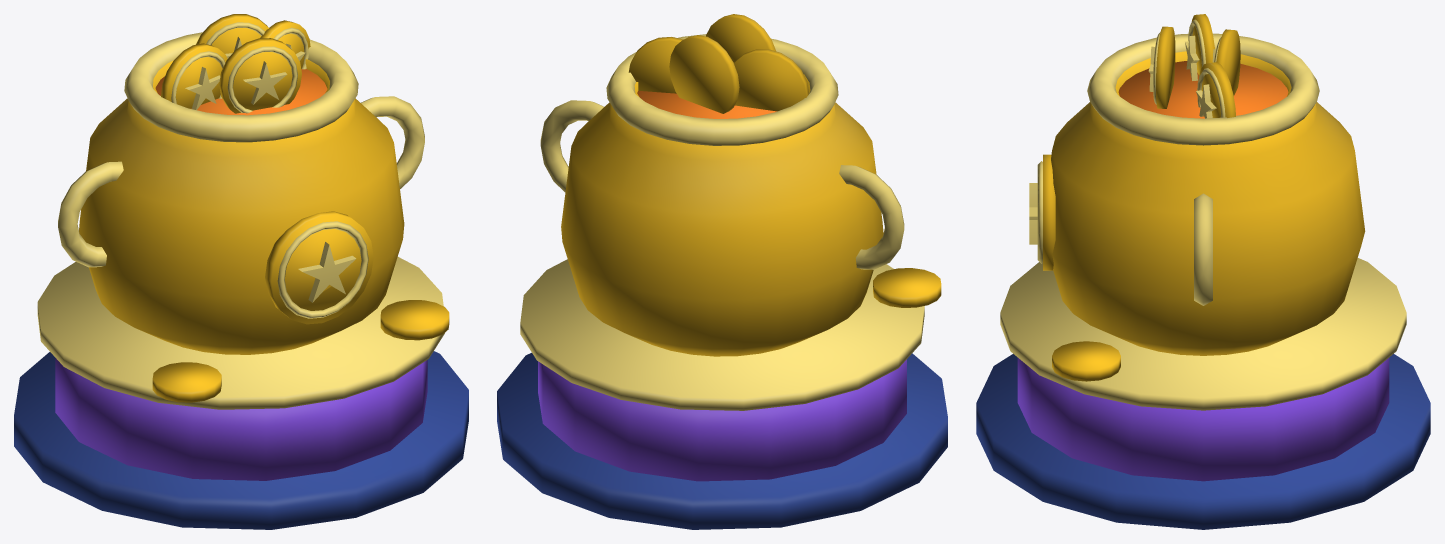
The model's file is CollectCoinJar.fbx.
3 views of the same model, side by side, from view 1: azimuth 30°, elevation 25°; view 2: azimuth 150°, elevation 25°; view 3: azimuth 270°, elevation 25° (orthographic).
Parts seen in each view (by area): view 1: CollectCoinJar; view 2: CollectCoinJar; view 3: CollectCoinJar.
Part boxes in pixels (x1,y1,x2,y2): CollectCoinJar: (14,14,468,529); CollectCoinJar: (497,14,947,529); CollectCoinJar: (976,14,1430,529).
Bounding box in the file's own units: 6.6 × 6.47 × 6.6.
Materials: 1 (1 with a texture image).
